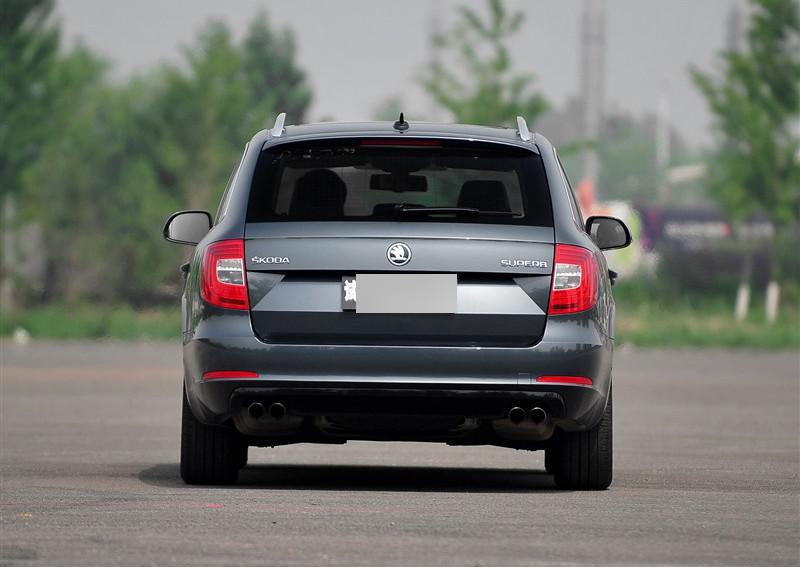Wagon: (162, 110, 634, 489)
